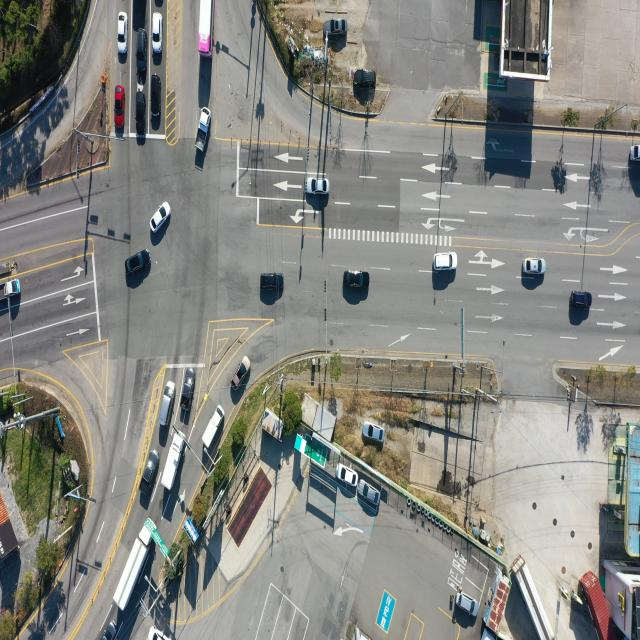car: (183, 369, 199, 426), (160, 381, 176, 427), (228, 356, 249, 390), (458, 589, 482, 615), (142, 448, 158, 486), (152, 202, 171, 233), (127, 252, 150, 276), (114, 86, 125, 134), (135, 88, 146, 136), (358, 482, 379, 507), (337, 463, 359, 486), (260, 273, 284, 294), (343, 271, 369, 290), (150, 74, 160, 123), (362, 422, 384, 442), (435, 252, 459, 270), (306, 177, 330, 195), (117, 12, 127, 54), (137, 34, 147, 76), (325, 19, 349, 36), (152, 12, 162, 52), (148, 622, 170, 640), (98, 619, 116, 640), (570, 290, 592, 307), (523, 260, 546, 276), (356, 69, 376, 86)
large_bus: (198, 0, 215, 58)
medium_truck: (116, 518, 158, 613), (518, 554, 557, 638), (159, 431, 184, 494)
small_truck: (202, 404, 225, 450), (197, 108, 214, 158), (0, 278, 21, 299), (631, 145, 640, 162)
